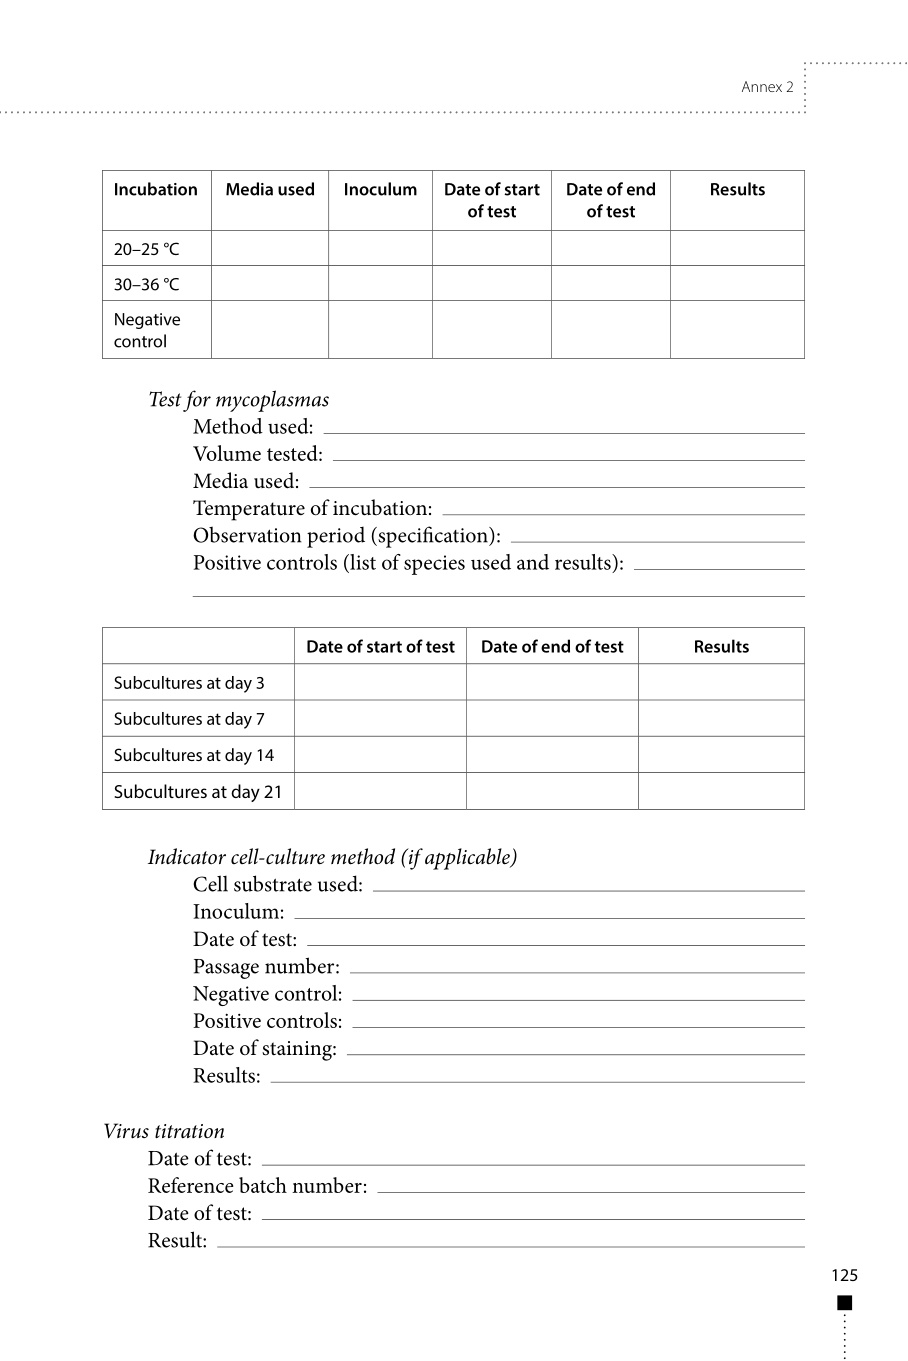full_lined: (101, 168, 806, 360), (101, 625, 806, 811)
